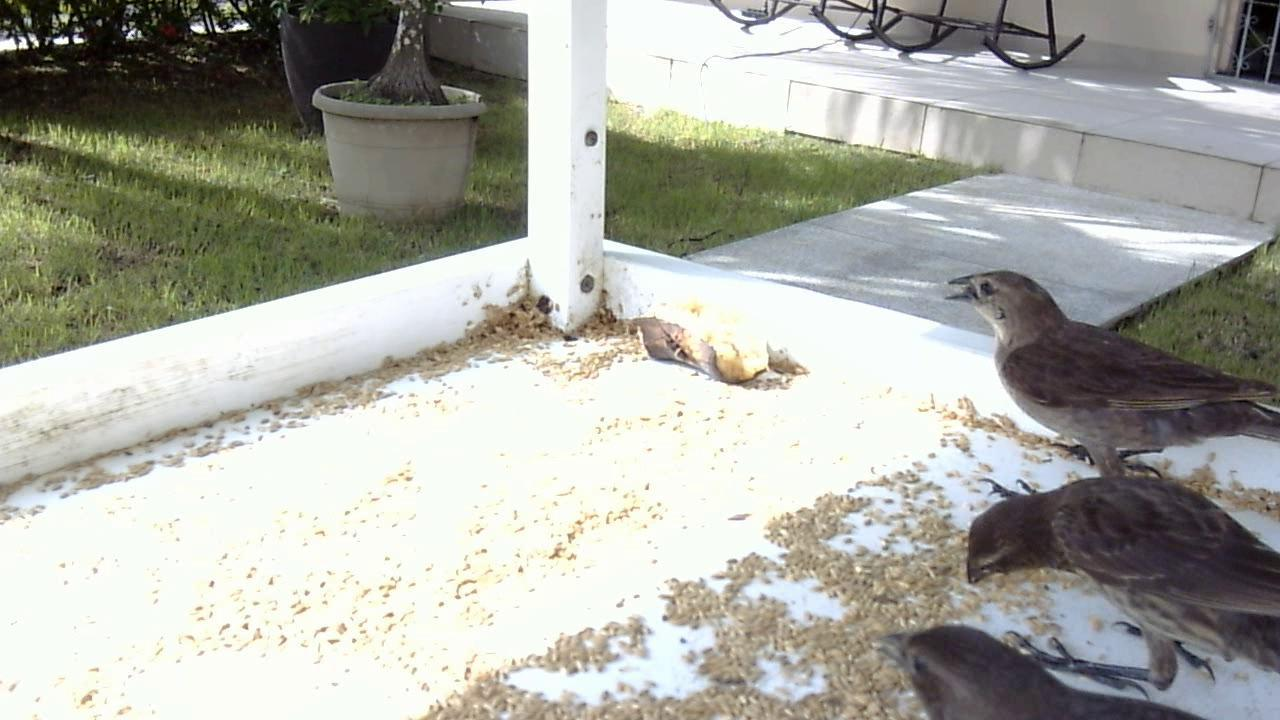chupim: (931, 244, 1278, 493), (960, 453, 1276, 704), (862, 609, 1226, 720)
